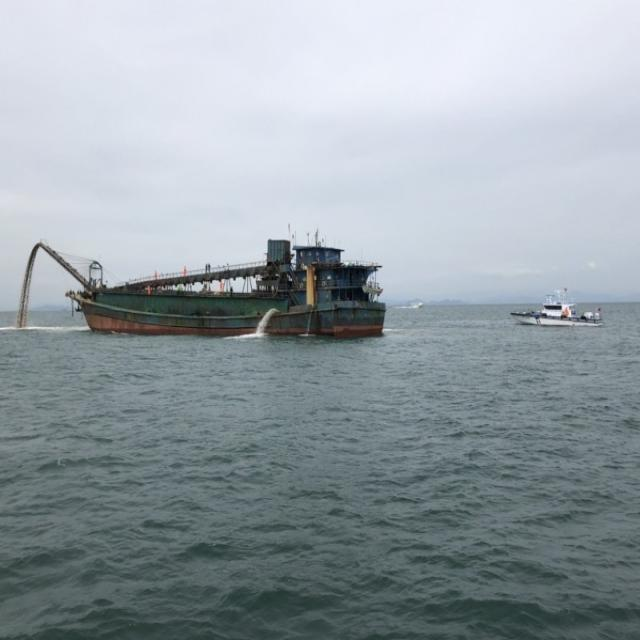cargoship: (69, 224, 382, 342)
houseboat: (508, 289, 607, 329)
